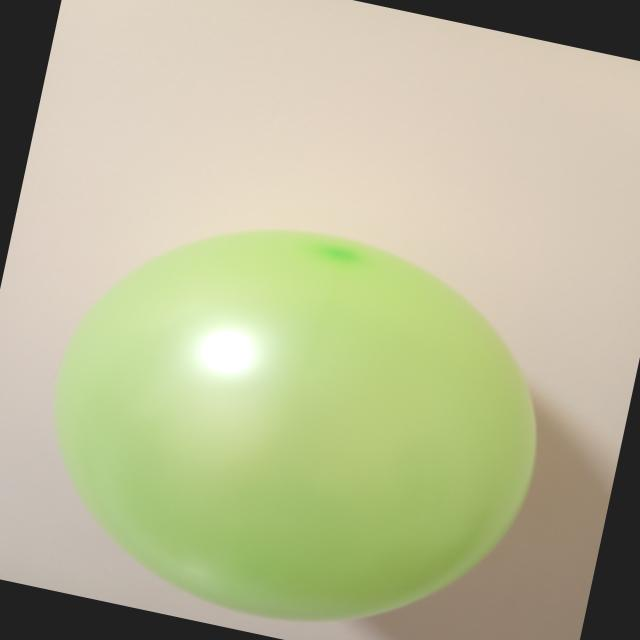balloon: (54, 230, 535, 620)
